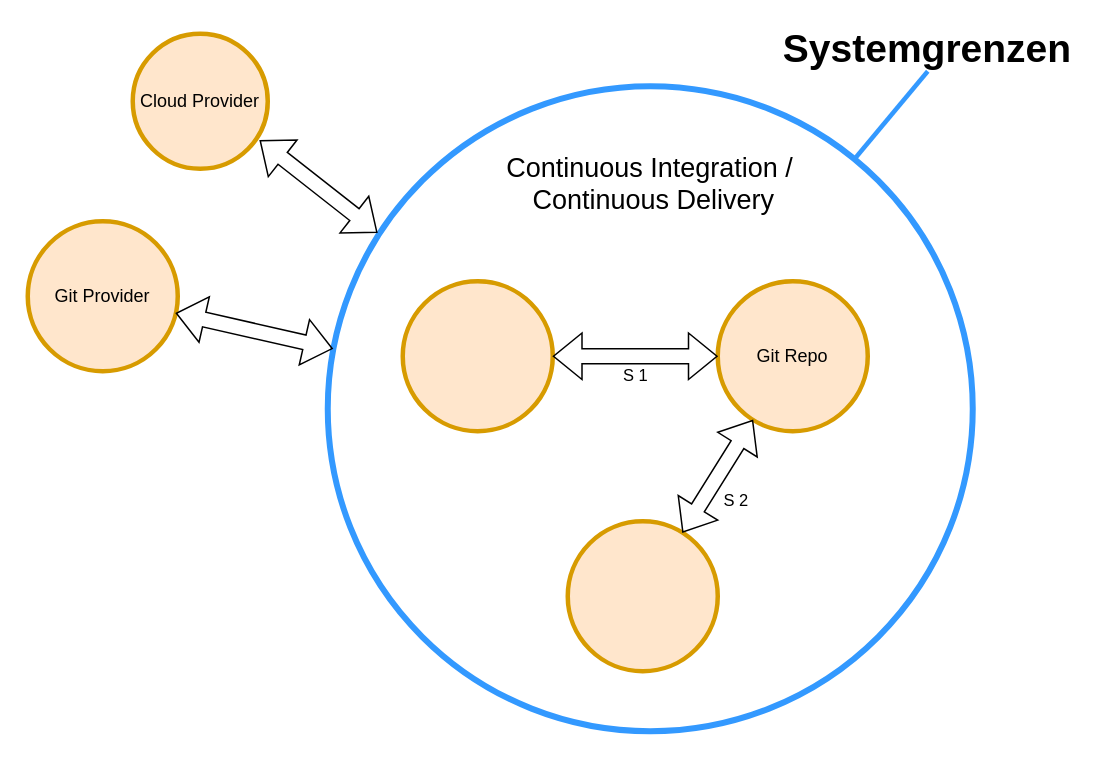
The diagram is 1098 pixels wide and 761 high, and some of its shapes have lost their labels. Here are the shapes that lost their labels. From the top down, the centre of each, then its label:
point 477,355: FAAS Code
point 642,595: AWS Services
